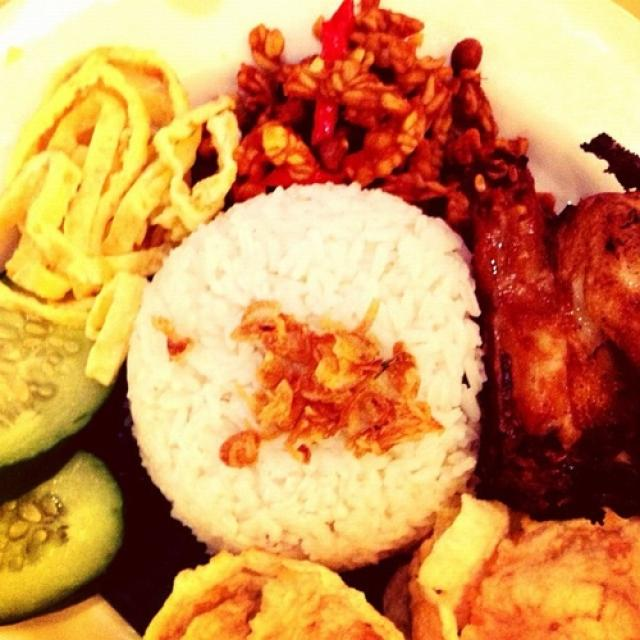米饭主食: (13, 16, 630, 636)
